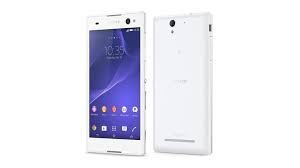sony: (83, 10, 146, 160), (151, 12, 213, 156)
